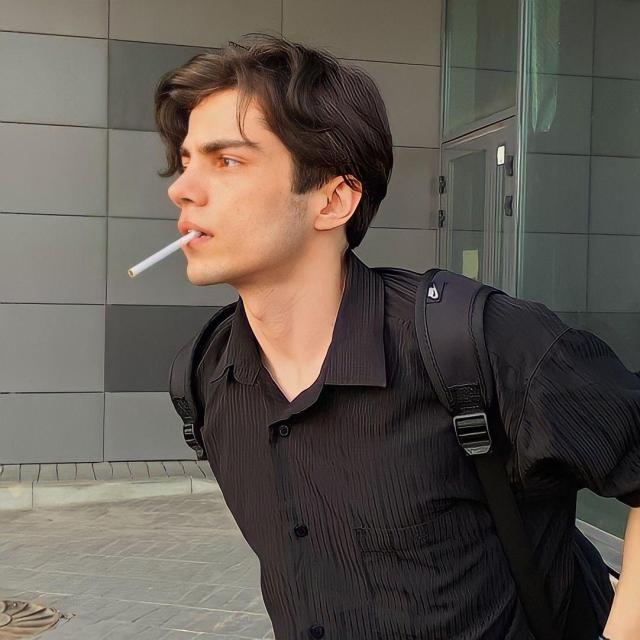cigarette: (112, 212, 219, 302)
